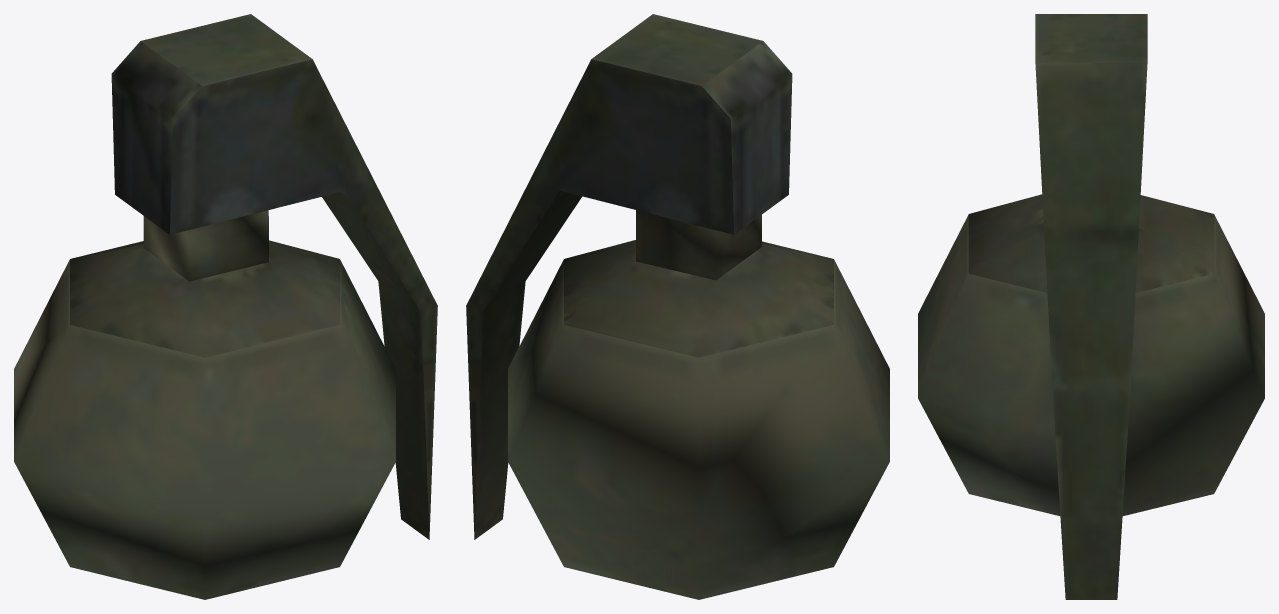
File: Pickup_WeaponSl01.glb
3 views of the same model, side by side, from view 1: azimuth 30°, elevation 25°; view 2: azimuth 150°, elevation 25°; view 3: azimuth 270°, elevation 25° (orthographic). The views are drawn at different scales.
Visible parts, largest first — view 1: pk_weapon_sl01; view 2: pk_weapon_sl01; view 3: pk_weapon_sl01.
Boxes of the visible parts, x1,y1,x2,y2 form: pk_weapon_sl01: (14,14,437,599); pk_weapon_sl01: (466,14,889,599); pk_weapon_sl01: (918,14,1264,599).
Bounding box in the file's own units: 0.1774 × 0.2273 × 0.1459.
1 material, 1 textured.
